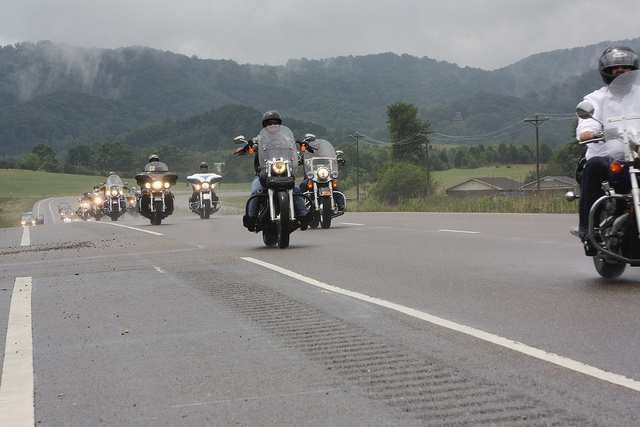non-vehicle: (564, 68, 640, 278), (232, 124, 318, 248), (297, 137, 347, 228), (133, 160, 179, 224), (185, 171, 223, 218), (98, 174, 130, 220), (83, 188, 106, 220), (75, 197, 92, 220), (125, 190, 139, 216)
